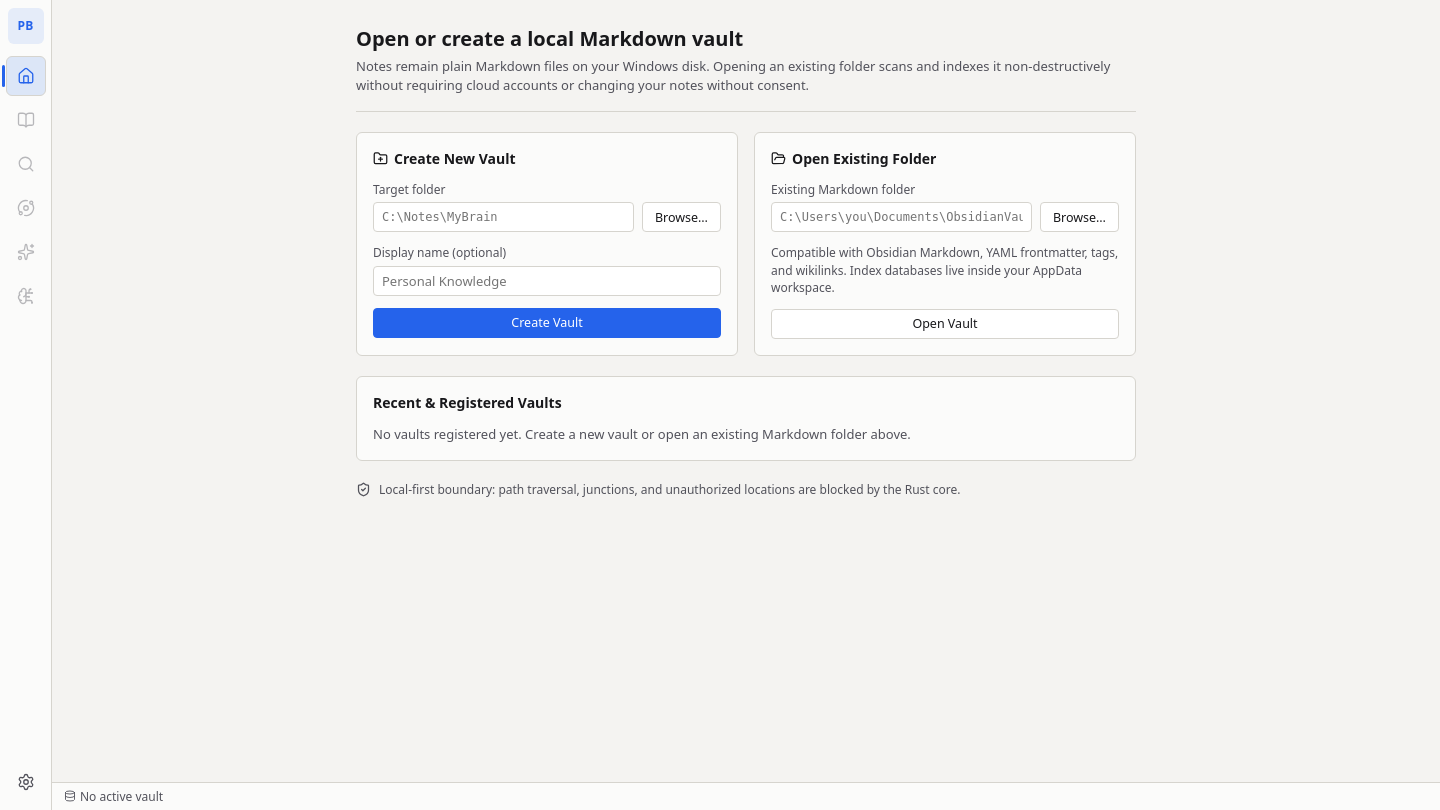
Test: App onboarding & Home/Vault navigation › creates a new vault via typed directory input
In the field labelled "Target folder": [503, 217] box [373,202,634,232], type "C:\\Vaults\\Engineering"
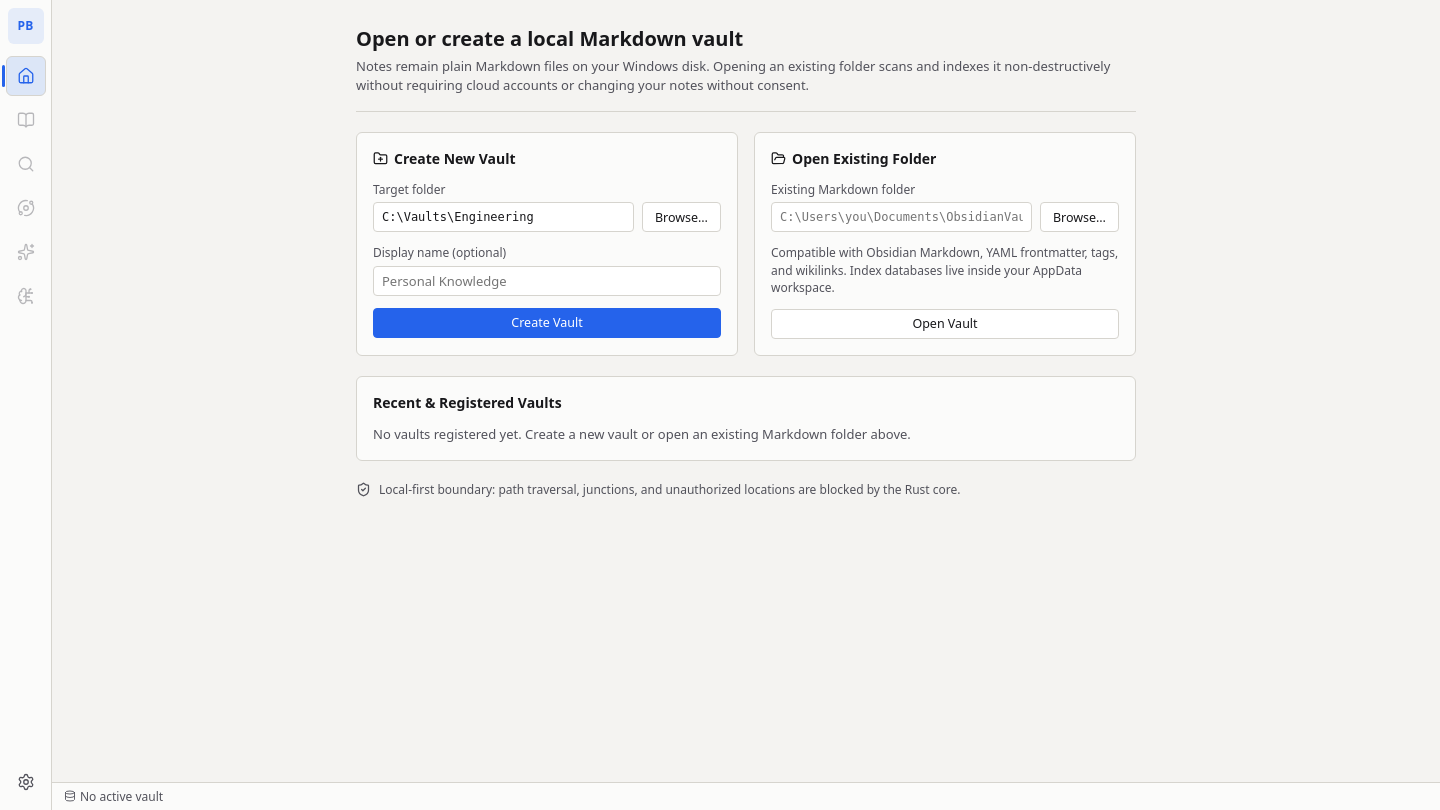
In the field labelled "Display name (optional)": [547, 281] box [373,266,721,296], type "Engineering Notes"
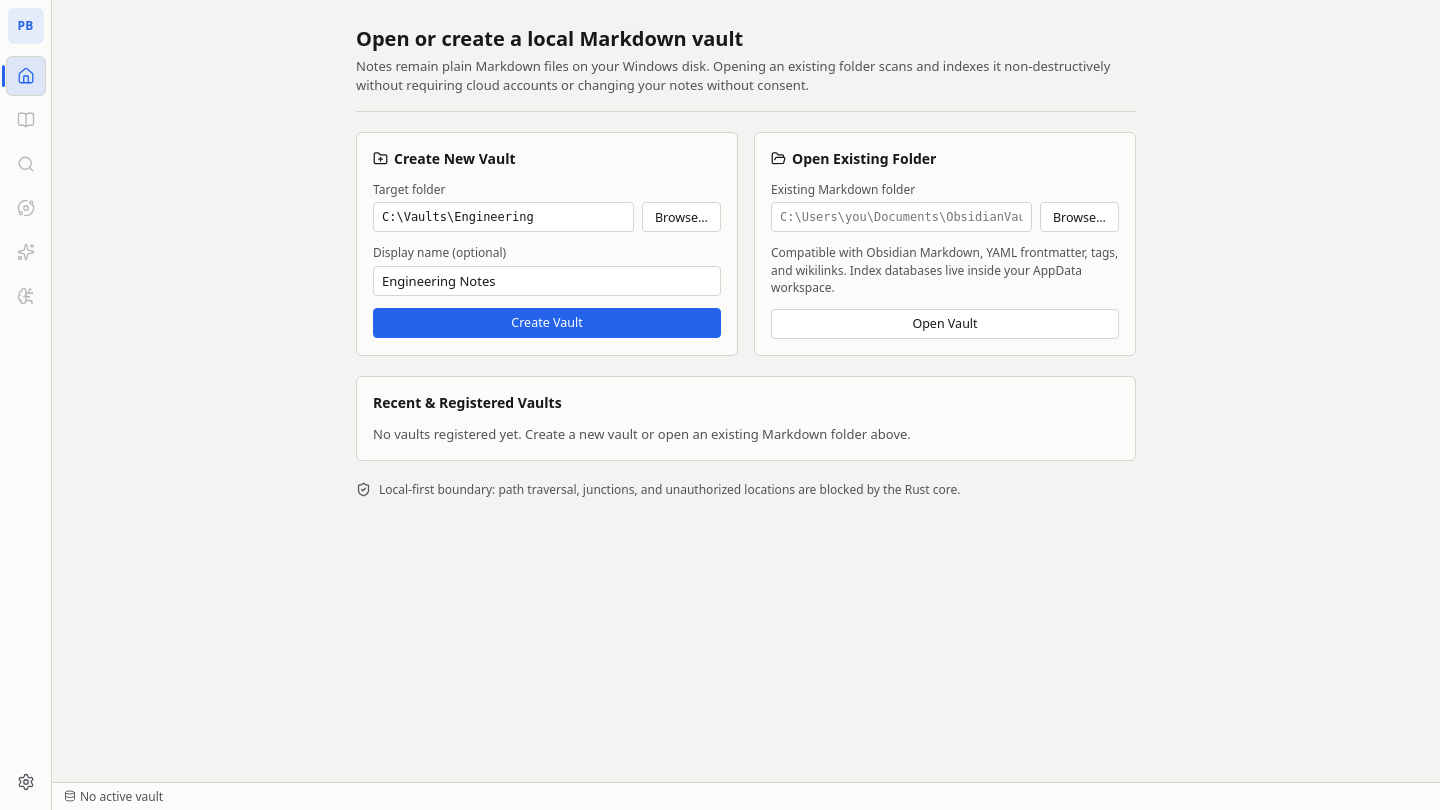
Click the button "Create Vault": [547, 323] box [373,308,721,338]
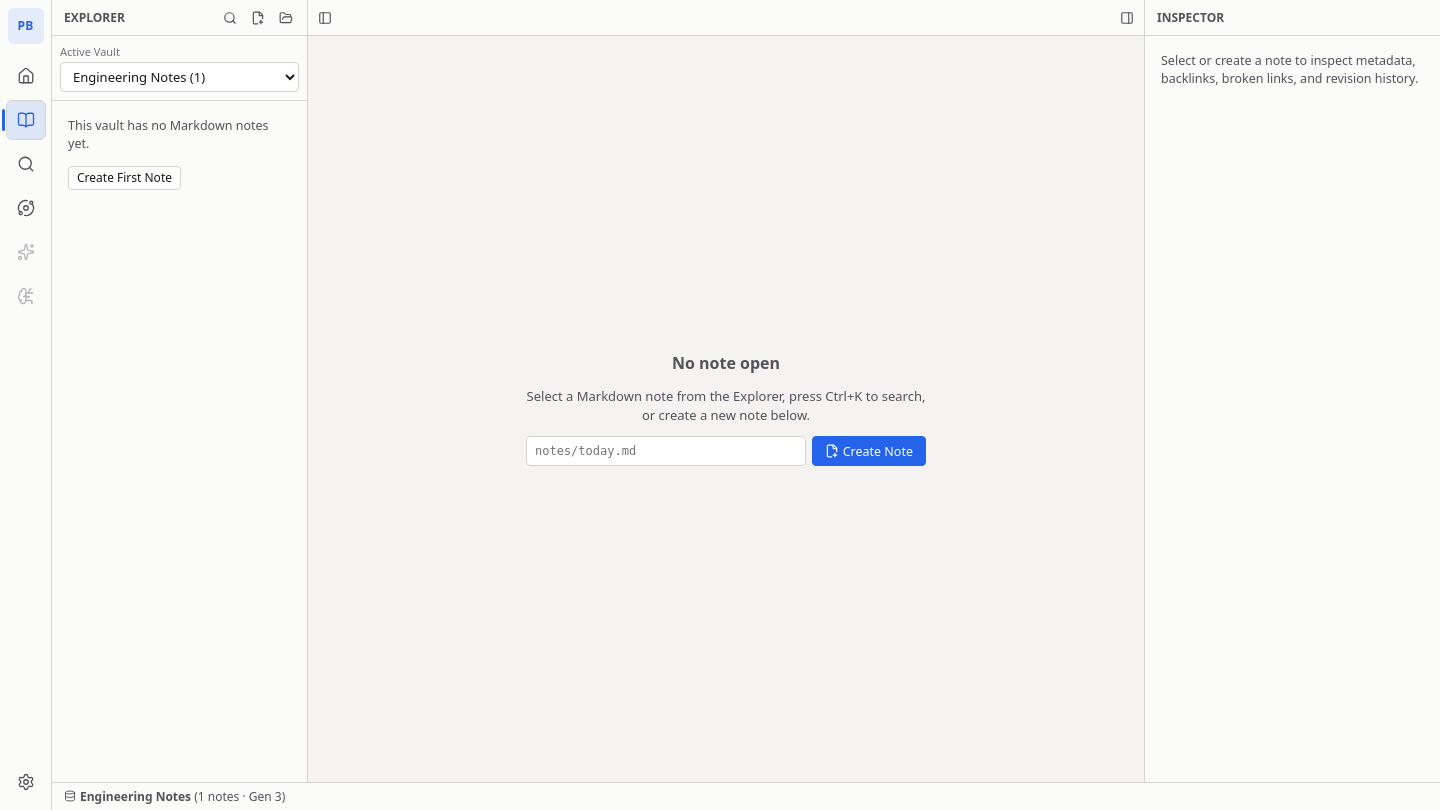
Expected: the text "This vault has no Markdown notes yet." is shown, [68,117,291,153]
